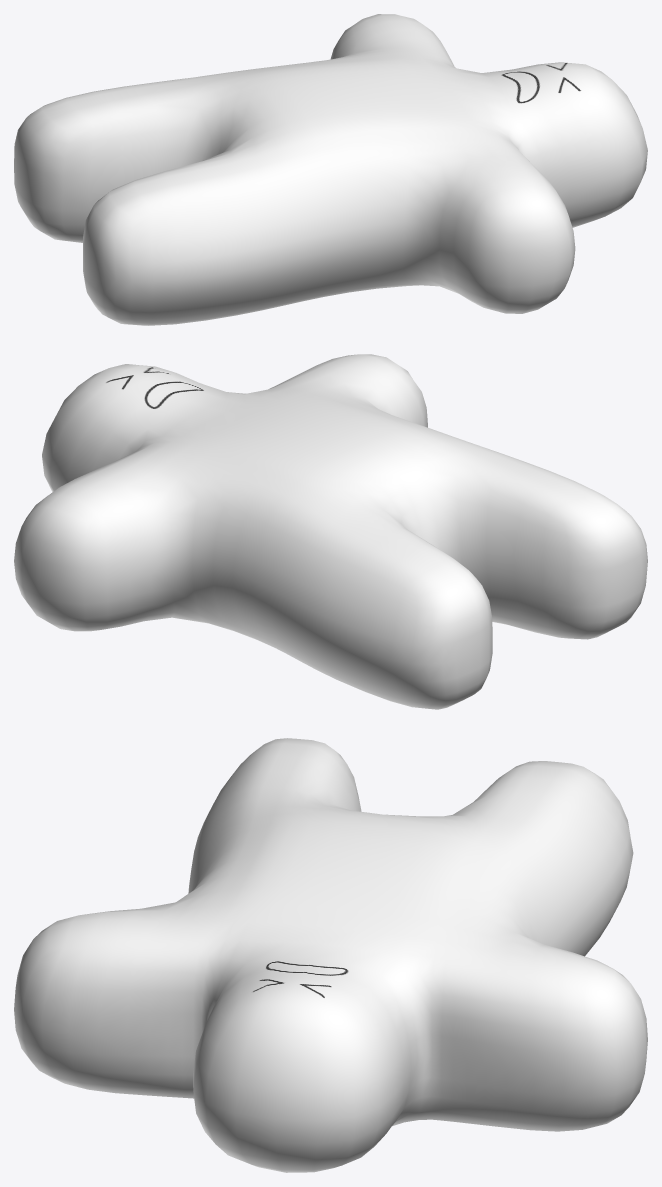
Rendered from M_man.fbx.
3 views of the same model, one above another, from view 1: azimuth 30°, elevation 25°; view 2: azimuth 150°, elevation 25°; view 3: azimuth 270°, elevation 25° (orthographic). The views are drawn at different scales.
Visible parts, largest first — view 1: pCube2; view 2: pCube2; view 3: pCube2.
Boxes of the visible parts, x1=… form: pCube2: x1=14, y1=14, x2=647, y2=325; pCube2: x1=14, y1=354, x2=647, y2=709; pCube2: x1=14, y1=738, x2=647, y2=1172.
Size of the model in its own units: 13.13 by 3.63 by 10.65.
Materials: 1 (1 with a texture image).
